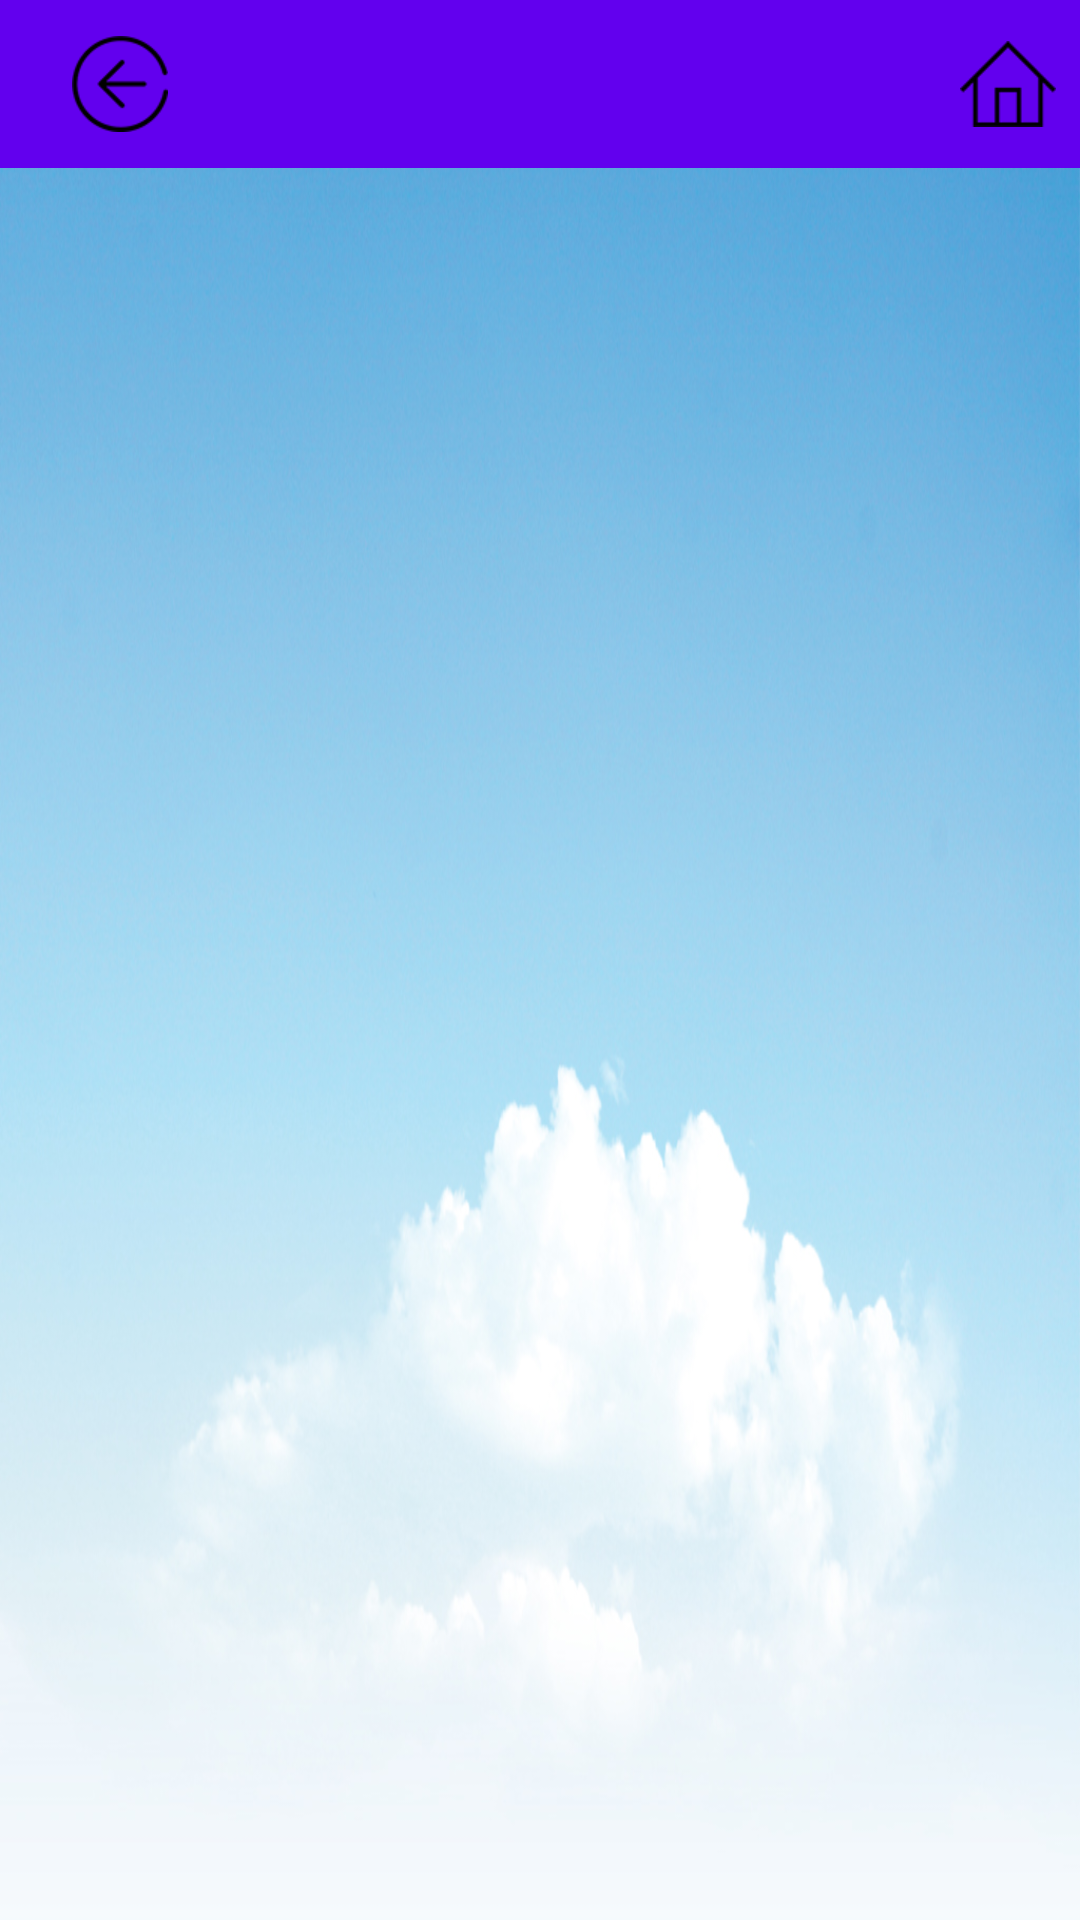

Icons on this 1080×1920 Android screen, each with its box as bbox=[x1, y1, x2, y2]:
backs: bbox=[72, 36, 168, 132]
homes: bbox=[960, 41, 1056, 127]
